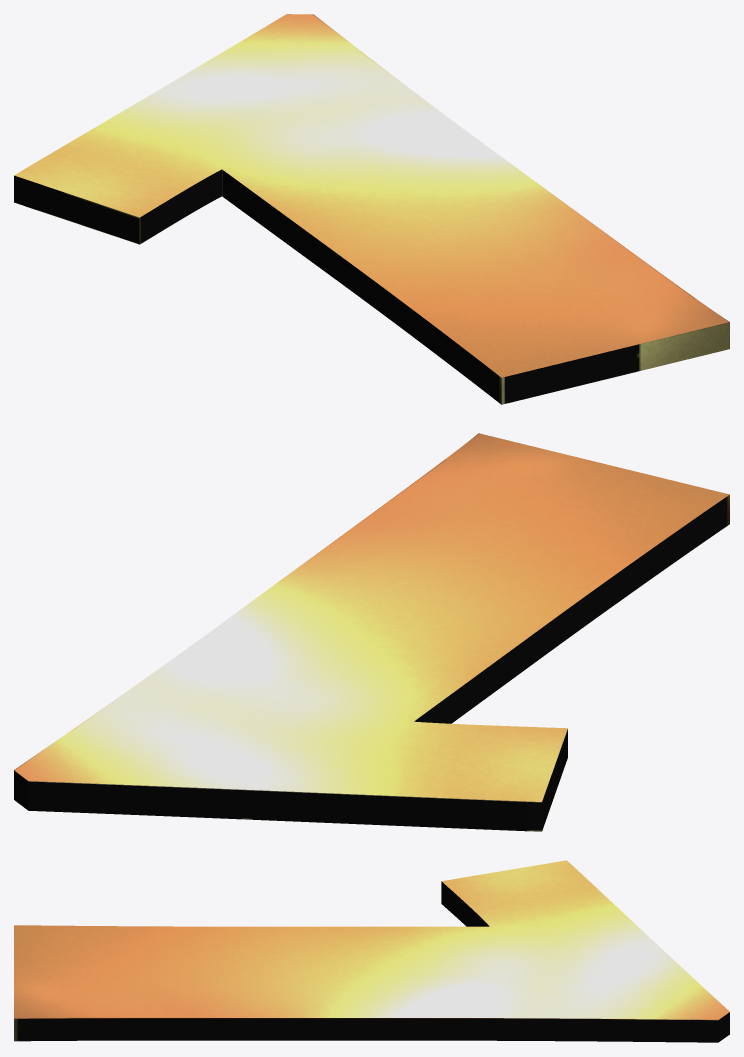
File: Number1.fbx
3 renders of one model, top to bottom at view 1: azimuth 30°, elevation 25°; view 2: azimuth 150°, elevation 25°; view 3: azimuth 270°, elevation 25°, orthographic. The views are drawn at different scales.
Visible parts, largest first — view 1: 1; view 2: 1; view 3: 1.
Boxes of the visible parts, x1,y1,x2,y2 form: 1: (14, 14, 729, 404); 1: (14, 433, 729, 831); 1: (14, 860, 729, 1042).
Size of the model in its own units: 0.8534 by 0.0566 by 1.62.
1 material, 1 textured.
